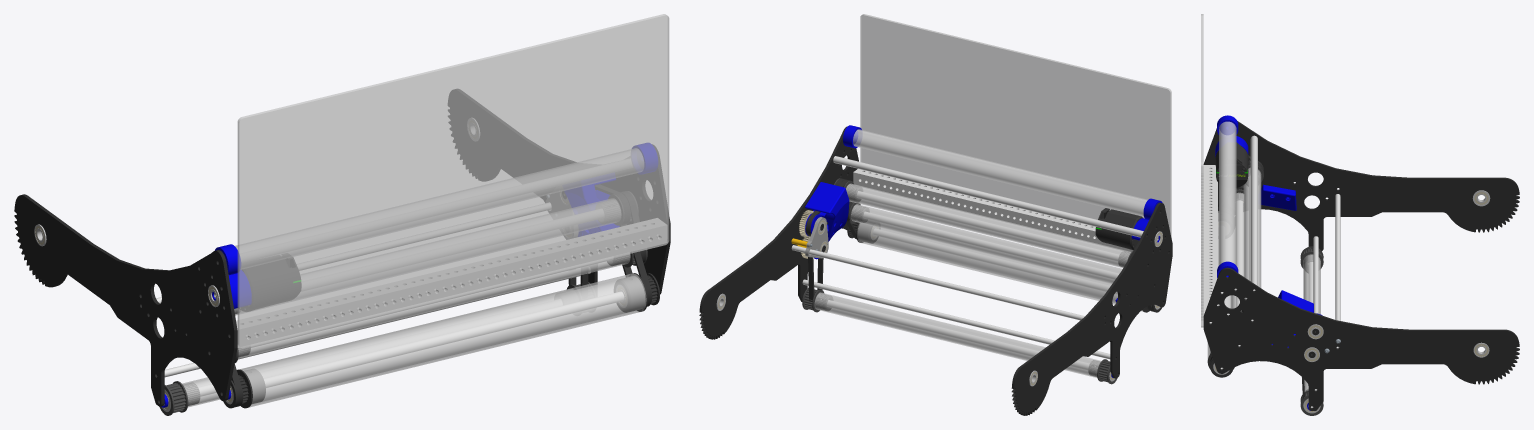
3 renders of one model, left to right at view 1: azimuth 30°, elevation 25°; view 2: azimuth 150°, elevation 25°; view 3: azimuth 270°, elevation 25°, orthographic. The views are drawn at different scales.
Visible parts, largest first — view 1: Part 68, 157-26-IN-P-1 (×2), 157-26-IN-P-38, 157-26-IN-P-16 (×3), 157-26-IN-P-36, 157-26-IN-P-24, 157-26-IN-P-40 (×2), Part 57 (×2), 157-26-IN-P-39 (×2), Kraken X60 Brushless Motor, TTB-R-001, Part 60 (+1 smaller); view 2: Part 68, 157-26-IN-P-1 (×2), 157-26-IN-P-16 (×3), 157-26-IN-P-40 (×5), 157-26-IN-P-24, 157-26-IN-P-38, 157-26-IN-P-36, Part 57 (×2), Part 60, Kraken X60 Brushless Motor, TTB-R-001 (×2), Part 62; view 3: 157-26-IN-P-1 (×2), 157-26-IN-P-16 (×3), 157-26-IN-P-24, 157-26-IN-P-36, 157-26-IN-P-40 (×2), Part 57 (×2), Part 68, Part 59, Kraken X60 Brushless Motor, Part 60, 157-26-IN-P-34, TTB-R-001.
Boxes of the visible parts, left/top/right/bottom form: Part 68: left=237, top=14, right=669, bottom=348; 157-26-IN-P-1 (×2): left=14, top=89, right=670, bottom=406; 157-26-IN-P-38: left=239, top=273, right=646, bottom=407; 157-26-IN-P-16 (×3): left=182, top=199, right=630, bottom=407; 157-26-IN-P-36: left=236, top=218, right=667, bottom=347; 157-26-IN-P-24: left=235, top=148, right=643, bottom=268; 157-26-IN-P-40 (×2): left=251, top=258, right=623, bottom=387; Part 57 (×2): left=156, top=202, right=590, bottom=377; 157-26-IN-P-39 (×2): left=223, top=273, right=659, bottom=408; Kraken X60 Brushless Motor: left=214, top=259, right=301, bottom=311; TTB-R-001: left=159, top=381, right=199, bottom=415; Part 60: left=564, top=178, right=619, bottom=235; Part 68: left=860, top=14, right=1171, bottom=237; 157-26-IN-P-1 (×2): left=699, top=126, right=1172, bottom=415; 157-26-IN-P-16 (×3): left=814, top=183, right=1131, bottom=377; 157-26-IN-P-40 (×5): left=821, top=156, right=1143, bottom=369; 157-26-IN-P-24: left=853, top=129, right=1147, bottom=216; 157-26-IN-P-38: left=857, top=223, right=1143, bottom=311; 157-26-IN-P-36: left=853, top=169, right=1133, bottom=252; Part 57 (×2): left=791, top=245, right=1110, bottom=359; Part 60: left=805, top=182, right=849, bottom=241; Kraken X60 Brushless Motor: left=1095, top=209, right=1158, bottom=250; TTB-R-001 (×2): left=802, top=288, right=1117, bottom=384; Part 62: left=805, top=217, right=828, bottom=258; 157-26-IN-P-1 (×2): left=1203, top=121, right=1519, bottom=410; 157-26-IN-P-16 (×3): left=1230, top=167, right=1320, bottom=391; 157-26-IN-P-24: left=1219, top=121, right=1236, bottom=265; 157-26-IN-P-36: left=1203, top=165, right=1217, bottom=323; 157-26-IN-P-40 (×2): left=1236, top=135, right=1257, bottom=346; Part 57 (×2): left=1313, top=194, right=1340, bottom=390; Part 68: left=1201, top=14, right=1203, bottom=327; Part 59: left=1261, top=184, right=1296, bottom=210; Kraken X60 Brushless Motor: left=1215, top=142, right=1248, bottom=187; Part 60: left=1271, top=290, right=1313, bottom=347; 157-26-IN-P-34: left=1217, top=115, right=1238, bottom=135; TTB-R-001: left=1300, top=246, right=1323, bottom=272.
Size of the model in its own units: 0.6519 by 0.5002 by 0.5703.
